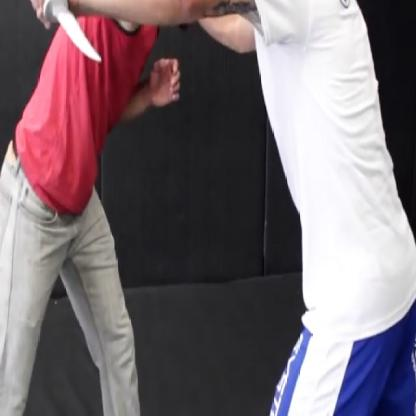knife: (19, 0, 110, 77)
